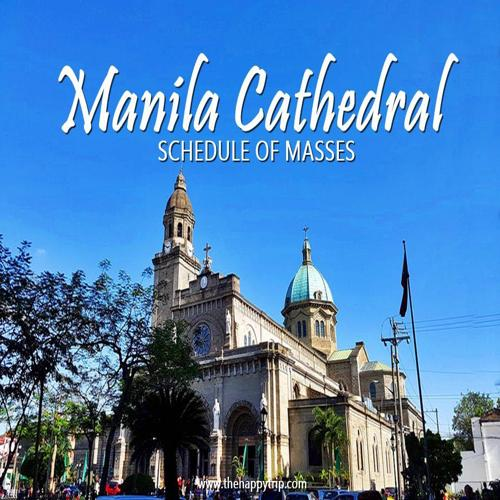Manila Cathedral Church: (48, 168, 432, 491)
